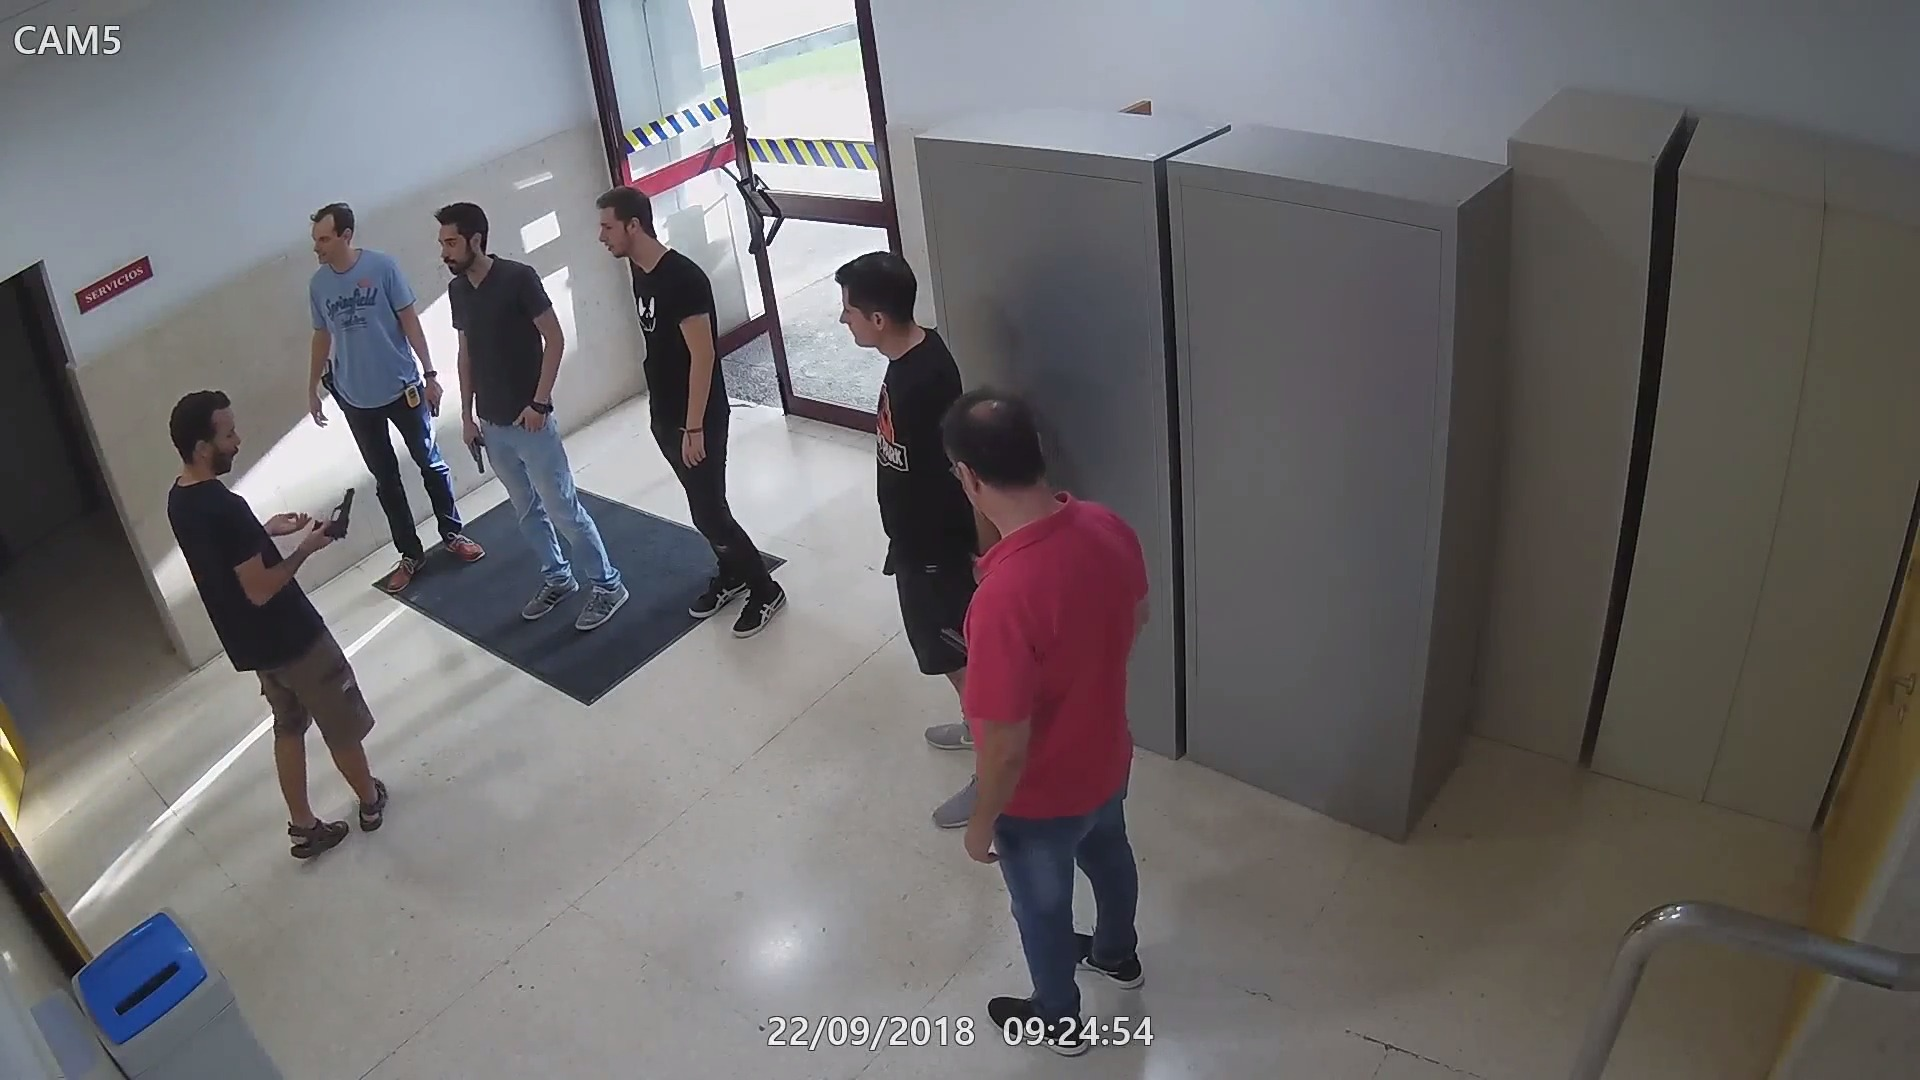Handgun: (309, 481, 363, 549), (458, 421, 495, 483), (316, 356, 343, 405), (882, 533, 895, 578)
Knife: (419, 375, 446, 465)
